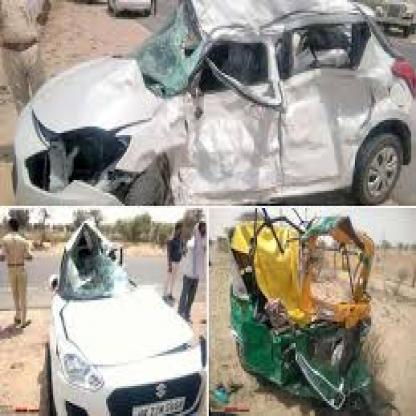accident: (19, 2, 412, 203), (16, 212, 211, 416), (228, 212, 399, 414)
